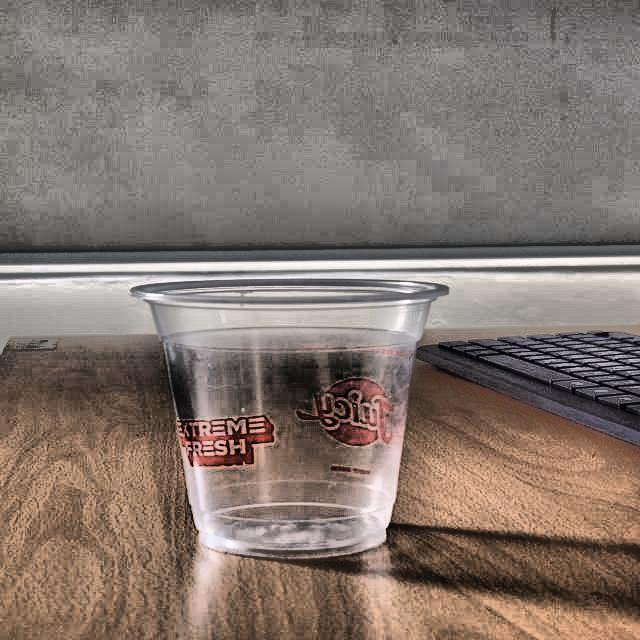plastic cup: (130, 276, 460, 560)
